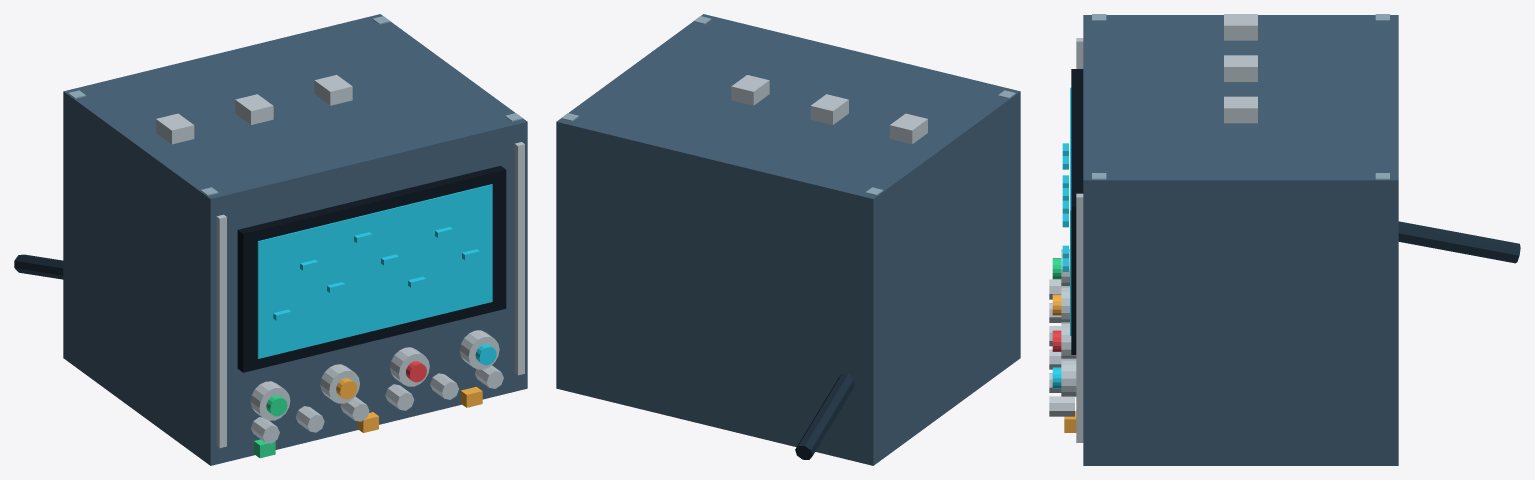
The model's file is 41_L80_ReceiverOpticalPowerMonitor.fbx.
3 views of the same model, side by side, from view 1: azimuth 30°, elevation 25°; view 2: azimuth 150°, elevation 25°; view 3: azimuth 270°, elevation 25° (orthographic). The views are drawn at different scales.
Visible parts, largest first — view 1: ReceiverOpticalPowerMonitor; view 2: ReceiverOpticalPowerMonitor; view 3: ReceiverOpticalPowerMonitor.
Part boxes in pixels (x1,y1,x2,y2): ReceiverOpticalPowerMonitor: [14, 14, 527, 465]; ReceiverOpticalPowerMonitor: [556, 14, 1020, 465]; ReceiverOpticalPowerMonitor: [1049, 14, 1520, 465].
Bounding box in the file's own units: 92 × 87.11 × 111.
